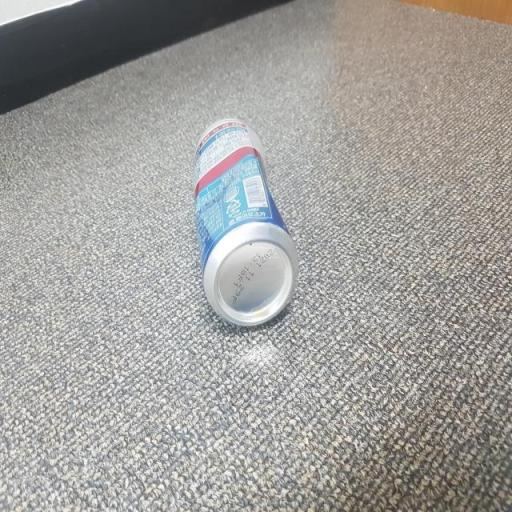metal: (188, 108, 306, 346)
